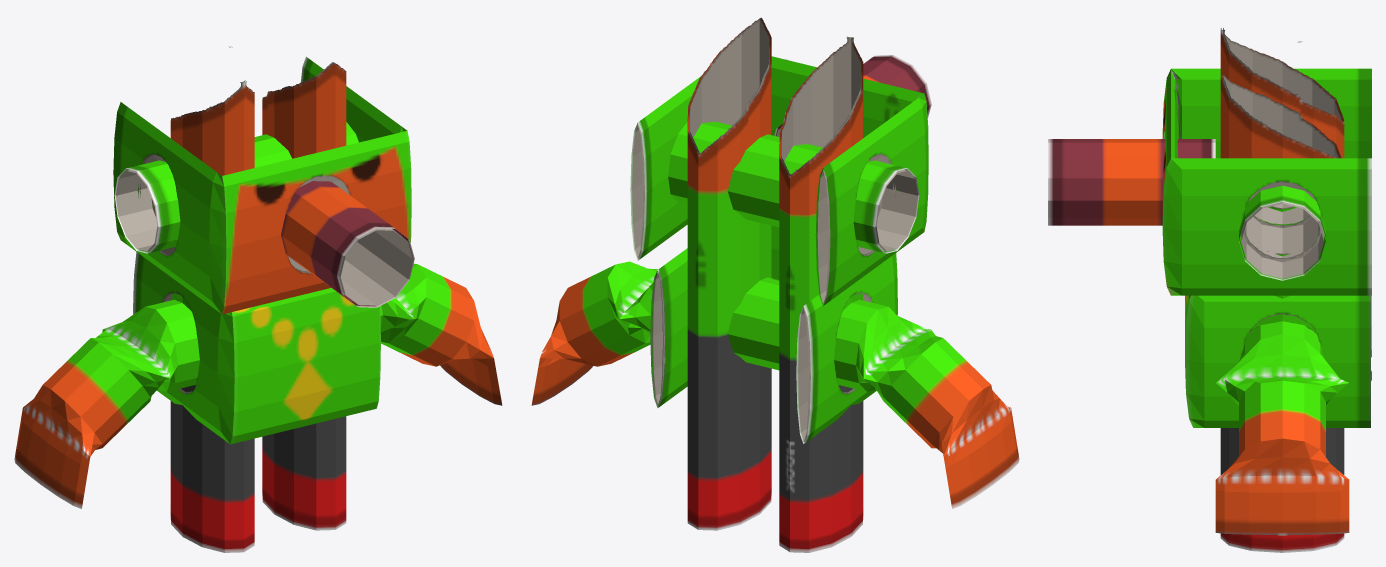
Rendered from hook.glb.
The picture shows the model from 3 angles, left to right: view 1: azimuth 30°, elevation 25°; view 2: azimuth 150°, elevation 25°; view 3: azimuth 270°, elevation 25°; orthographic projection.
Visible parts, largest first — view 1: P14 フック_頭_顔 [短冊2-1], P50 フック_腕・胴体_左右の腕と胸・脚の接続軸 [短冊4-5], P18 フック_胴体_胸・ネックレス [短冊2-2], P21 フック_頭・脚_右耳から右脚 [短冊2-3], P24 フック_頭・脚_左耳から左脚 [短冊2-4], P48 フック_頭_鼻・口の筒 [短冊4-3], P49 フック_頭_顔と左右の脚をつなぐ軸 [短冊4-4]; view 2: P24 フック_頭・脚_左耳から左脚 [短冊2-4], P50 フック_腕・胴体_左右の腕と胸・脚の接続軸 [短冊4-5], P21 フック_頭・脚_右耳から右脚 [短冊2-3], P14 フック_頭_顔 [短冊2-1], P18 フック_胴体_胸・ネックレス [短冊2-2], P49 フック_頭_顔と左右の脚をつなぐ軸 [短冊4-4], P48 フック_頭_鼻・口の筒 [短冊4-3]; view 3: P14 フック_頭_顔 [短冊2-1], P50 フック_腕・胴体_左右の腕と胸・脚の接続軸 [短冊4-5], P18 フック_胴体_胸・ネックレス [短冊2-2], P48 フック_頭_鼻・口の筒 [短冊4-3], P24 フック_頭・脚_左耳から左脚 [短冊2-4], P49 フック_頭_顔と左右の脚をつなぐ軸 [短冊4-4], P21 フック_頭・脚_右耳から右脚 [短冊2-3].
Part boxes in pixels (x1,y1,x2,y2): P14 フック_頭_顔 [短冊2-1]: (113,56,411,314); P50 フック_腕・胴体_左右の腕と胸・脚の接続軸 [短冊4-5]: (14,263,502,508); P18 フック_胴体_胸・ネックレス [短冊2-2]: (133,252,380,444); P21 フック_頭・脚_右耳から右脚 [短冊2-3]: (170,46,254,552); P24 フック_頭・脚_左耳から左脚 [短冊2-4]: (262,62,346,530); P48 フック_頭_鼻・口の筒 [短冊4-3]: (281,181,414,307); P49 フック_頭_顔と左右の脚をつなぐ軸 [短冊4-4]: (114,122,358,253); P24 フック_頭・脚_左耳から左脚 [短冊2-4]: (687,17,771,530); P50 フック_腕・胴体_左右の腕と胸・脚の接続軸 [短冊4-5]: (531,261,1019,508); P21 フック_頭・脚_右耳から右脚 [短冊2-3]: (779,36,863,552); P14 フック_頭_顔 [短冊2-1]: (630,56,928,305); P18 フック_胴体_胸・ネックレス [短冊2-2]: (650,226,897,443); P49 フック_頭_顔と左右の脚をつなぐ軸 [短冊4-4]: (668,121,919,253); P48 フック_頭_鼻・口の筒 [短冊4-3]: (774,55,931,136); P14 フック_頭_顔 [短冊2-1]: (1162,68,1371,295); P50 フック_腕・胴体_左右の腕と胸・脚の接続軸 [短冊4-5]: (1215,321,1349,535); P18 フック_胴体_胸・ネックレス [短冊2-2]: (1185,295,1371,427); P48 フック_頭_鼻・口の筒 [短冊4-3]: (1048,139,1215,225); P24 フック_頭・脚_左耳から左脚 [短冊2-4]: (1220,75,1344,552); P49 フック_頭_顔と左右の脚をつなぐ軸 [短冊4-4]: (1239,185,1325,280); P21 フック_頭・脚_右耳から右脚 [短冊2-3]: (1220,28,1344,211).
Bounding box in the file's own units: 0.0446 × 0.046 × 0.029.
14 materials, 14 textured.
